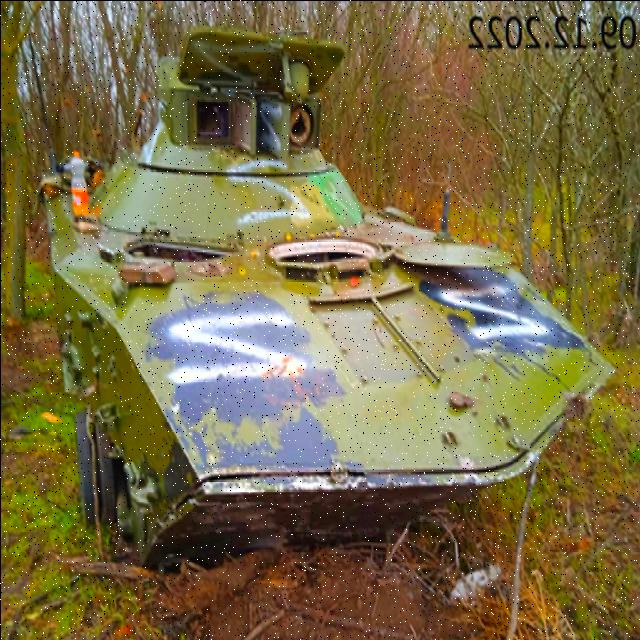APC-IFV: (43, 33, 616, 596)
